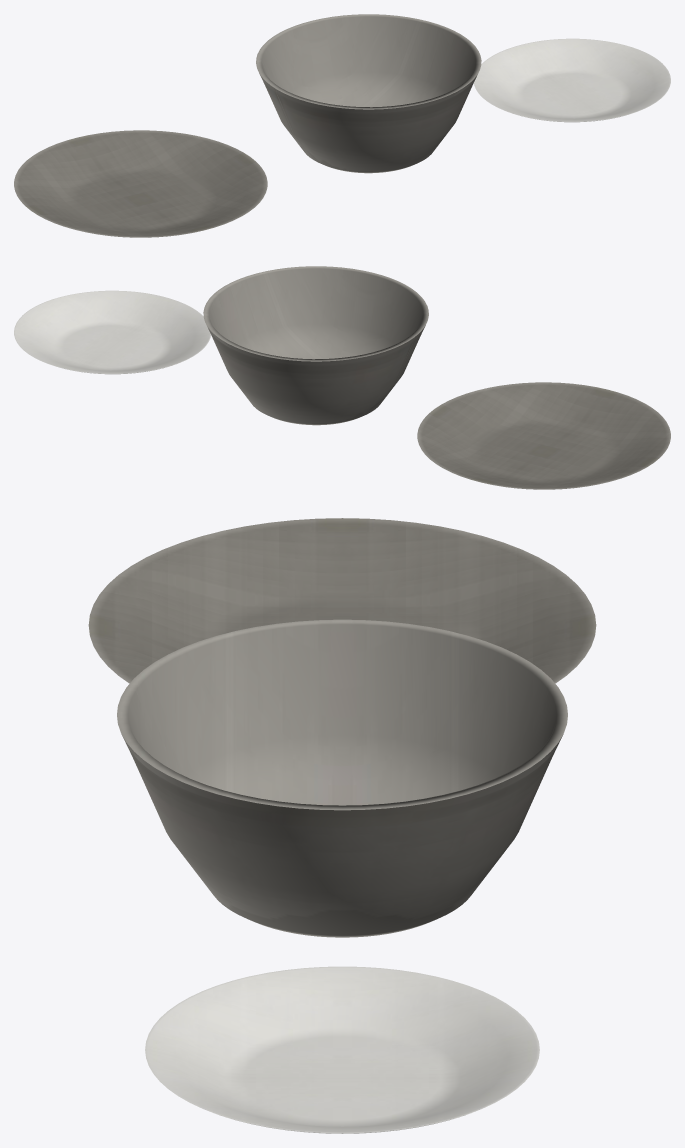
File: MAR-18.glb
3 renders of one model, top to bottom at view 1: azimuth 30°, elevation 25°; view 2: azimuth 150°, elevation 25°; view 3: azimuth 270°, elevation 25°, orthographic. The views are drawn at different scales.
Bounding box in the file's own units: 0.77 × 0.1 × 0.27.
6 materials, 6 textured.
